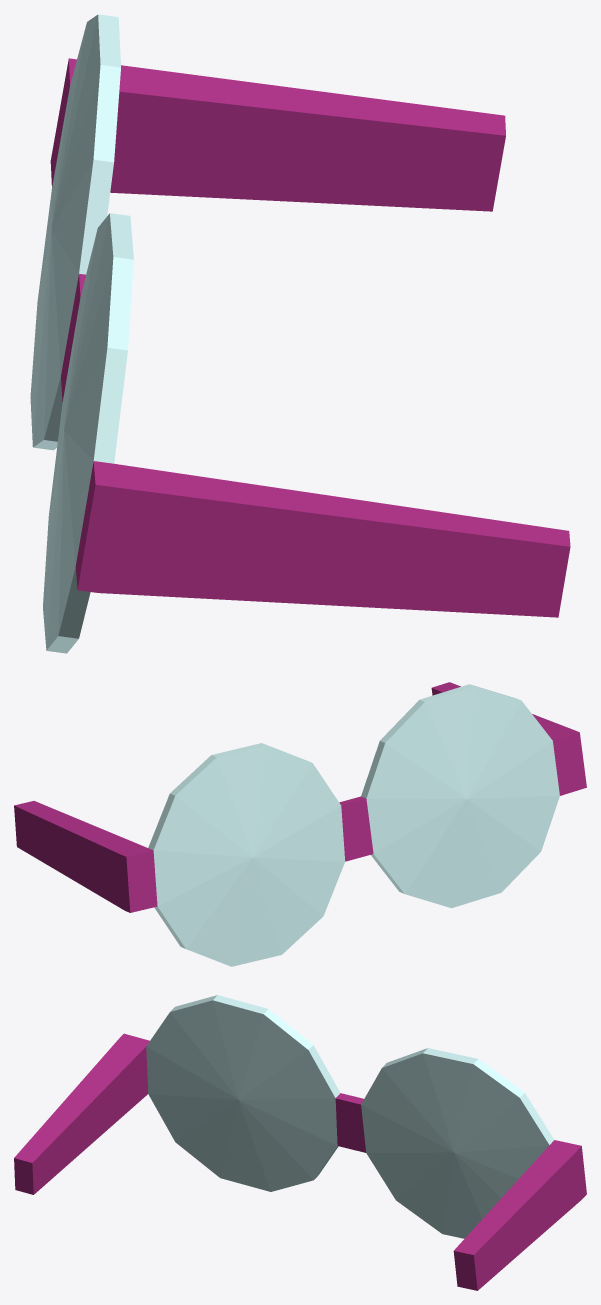
The model's file is glasses_idle.fbx.
3 renders of one model, top to bottom at view 1: azimuth 30°, elevation 25°; view 2: azimuth 150°, elevation 25°; view 3: azimuth 270°, elevation 25°, orthographic. The views are drawn at different scales.
Parts seen in each view (by area): view 1: Player.001; view 2: Player.001; view 3: Player.001.
Boxes of the visible parts, x1=… form: Player.001: x1=30, y1=14, x2=570, y2=653; Player.001: x1=14, y1=682, x2=586, y2=966; Player.001: x1=14, y1=995, x2=586, y2=1290.
Size of the model in its own units: 149 by 72.9 by 190.
